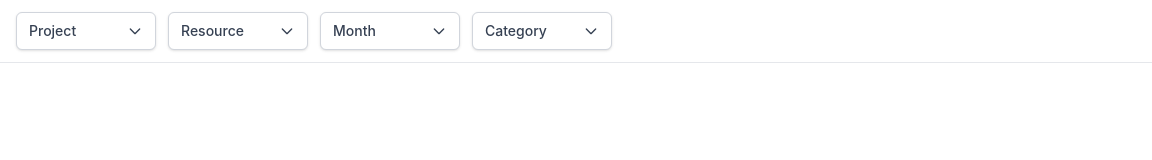
Scenario: FilterBar › dropdown interaction › shows "No options available" for empty project list
Open project dropdown (no data imported)
Click the button "Project" at x=86, y=31, box 16,12 -> 156,50
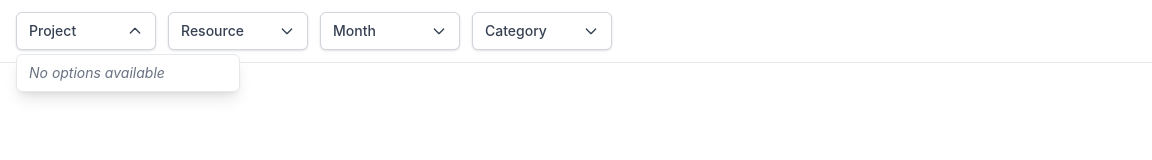
Result: the text "No options available" is shown at 29,64 -> 165,81
